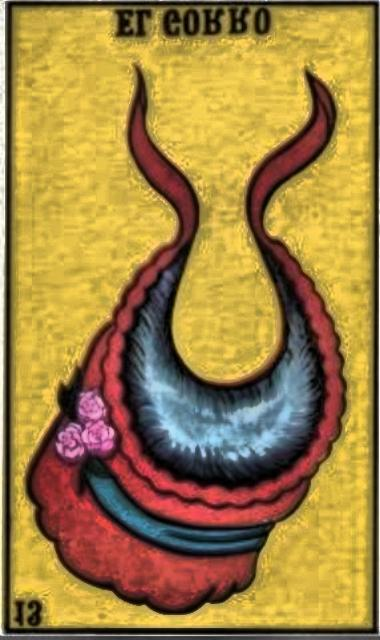El Gorrito: (9, 6, 380, 640)
